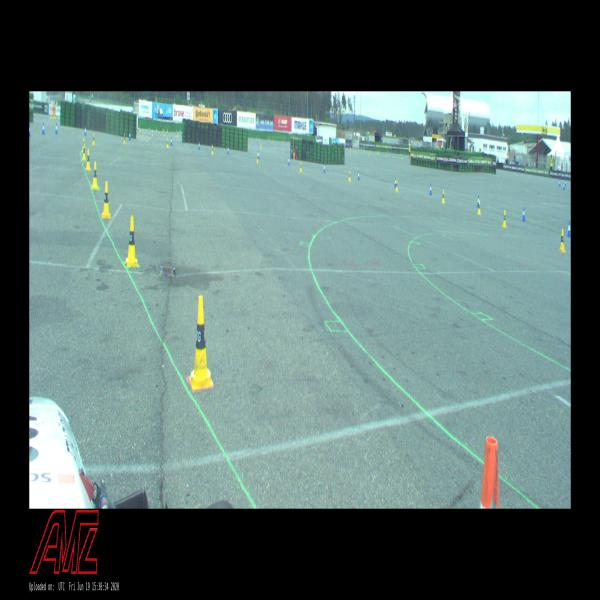blue_cone: (567, 221, 571, 237), (522, 207, 525, 221), (42, 122, 45, 134), (429, 184, 432, 195), (55, 124, 58, 134), (84, 126, 87, 136), (29, 123, 31, 137), (477, 195, 479, 207), (394, 177, 396, 188), (358, 170, 360, 180), (324, 163, 326, 173), (129, 131, 131, 140), (170, 137, 172, 145), (228, 146, 230, 154), (258, 151, 260, 159), (288, 157, 290, 165), (563, 182, 565, 190), (558, 179, 560, 186), (199, 141, 200, 149)
yellow_cone: (189, 295, 213, 390), (125, 216, 138, 267), (102, 182, 111, 218), (92, 162, 98, 190), (559, 229, 566, 252), (85, 150, 91, 170), (502, 210, 506, 228), (82, 143, 86, 160), (82, 138, 86, 152), (478, 200, 481, 215), (442, 190, 445, 203), (92, 133, 95, 145), (395, 180, 398, 192), (123, 133, 126, 144), (348, 171, 351, 181), (167, 138, 169, 148), (212, 144, 214, 154), (256, 153, 258, 163), (300, 162, 302, 172)
